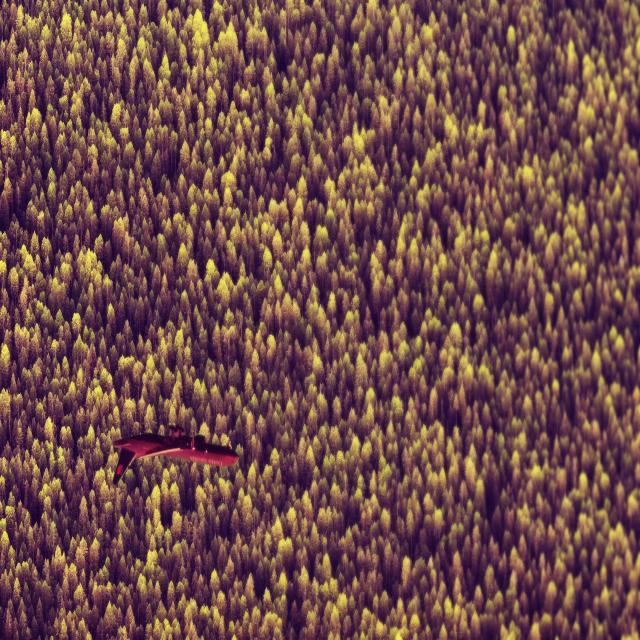airplane: (112, 428, 239, 486)
